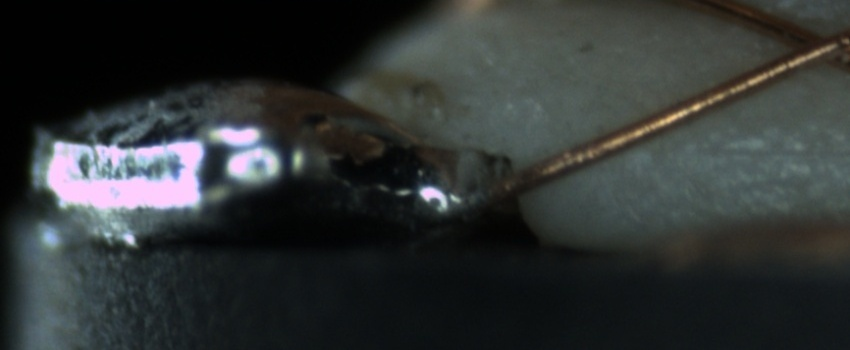CL: (763, 12, 847, 77)
DL: (675, 120, 850, 182)
